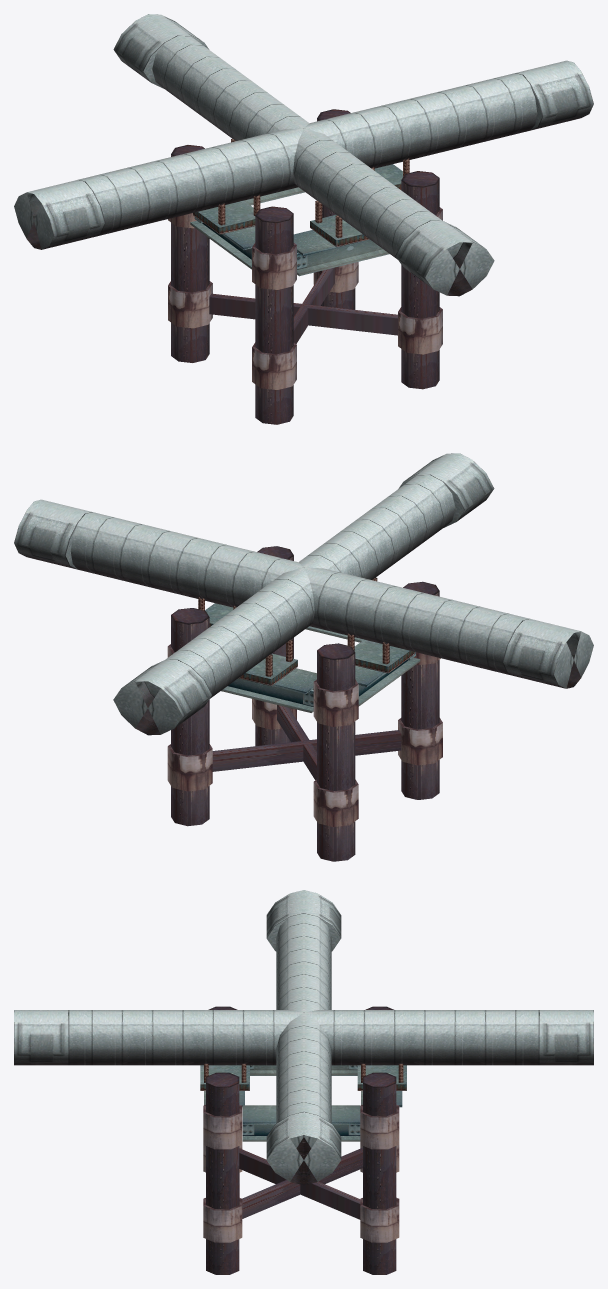
The model's file is pipes_tall_four_way.fbx.
3 renders of one model, top to bottom at view 1: azimuth 30°, elevation 25°; view 2: azimuth 150°, elevation 25°; view 3: azimuth 270°, elevation 25°, orthographic. The views are drawn at different scales.
Parts seen in each view (by area): view 1: mesh_52, mesh_38, mesh_1, mesh_0, mesh_35, mesh_36, mesh_32, mesh_34, mesh_28, mesh_29, mesh_33, mesh_55 (+7 smaller); view 2: mesh_52, mesh_38, mesh_0, mesh_1, mesh_29, mesh_37, mesh_28, mesh_30, mesh_34, mesh_35, mesh_31, mesh_32 (+7 smaller); view 3: mesh_0, mesh_1, mesh_38, mesh_52, mesh_31, mesh_33, mesh_30, mesh_32, mesh_37, mesh_36, mesh_40, mesh_4 (+1 smaller).
Boxes of the visible parts, x1,y1,x2,y2 form: mesh_52: (14, 128, 303, 249); mesh_38: (304, 60, 593, 168); mesh_1: (293, 128, 494, 296); mesh_0: (113, 14, 309, 140); mesh_35: (252, 206, 296, 354); mesh_36: (209, 293, 397, 335); mesh_32: (398, 307, 442, 389); mesh_34: (252, 342, 296, 424); mesh_28: (168, 281, 212, 362); mesh_29: (168, 145, 209, 292); mesh_33: (401, 171, 442, 318); mesh_55: (193, 200, 255, 234); mesh_52: (304, 567, 593, 688); mesh_38: (14, 499, 303, 607); mesh_0: (113, 567, 314, 735); mesh_1: (298, 453, 494, 579); mesh_29: (313, 643, 358, 791); mesh_37: (212, 730, 401, 771); mesh_28: (313, 779, 358, 861); mesh_30: (167, 744, 212, 826); mesh_34: (398, 718, 442, 799); mesh_35: (401, 581, 440, 729); mesh_31: (167, 608, 209, 755); mesh_32: (252, 698, 296, 746); mesh_0: (304, 1010, 593, 1065); mesh_1: (14, 1010, 303, 1065); mesh_38: (266, 1013, 341, 1185); mesh_52: (266, 890, 341, 1012); mesh_31: (360, 1072, 399, 1209); mesh_33: (203, 1072, 242, 1209); mesh_30: (360, 1197, 399, 1274); mesh_32: (203, 1197, 242, 1274); mesh_37: (239, 1148, 360, 1219); mesh_36: (242, 1148, 362, 1218); mesh_40: (242, 1105, 360, 1124); mesh_4: (200, 1065, 249, 1090).
Bounding box in the file's own units: 800 × 338 × 800.
1 material, 1 textured.
